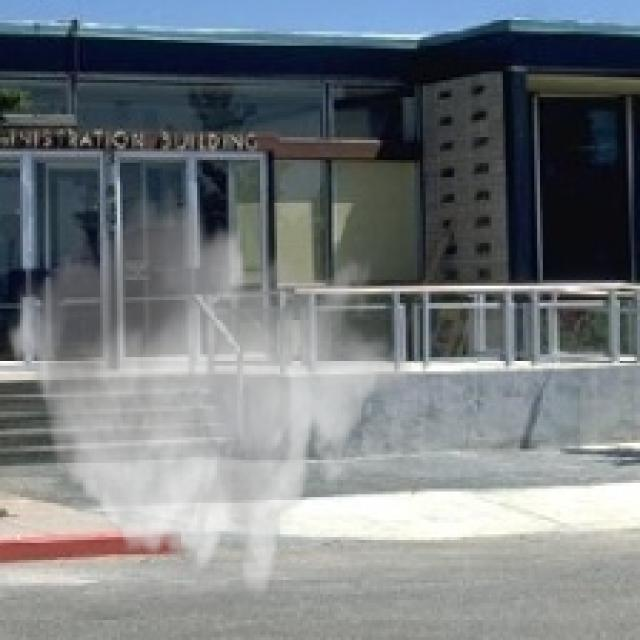Smoke: (2, 177, 412, 600)
